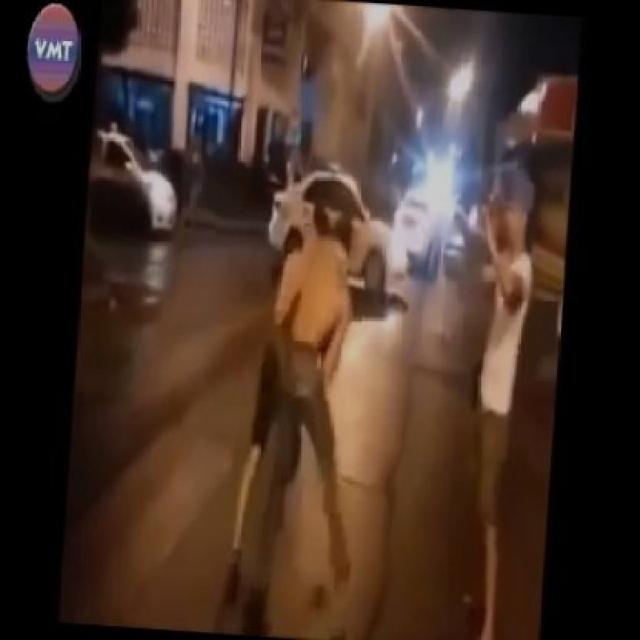fight: (220, 202, 361, 628)
